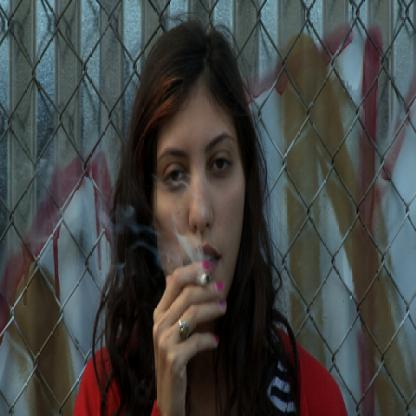cigarette: (198, 272, 210, 286)
person: (95, 23, 278, 415)
smoke: (177, 220, 208, 278)
